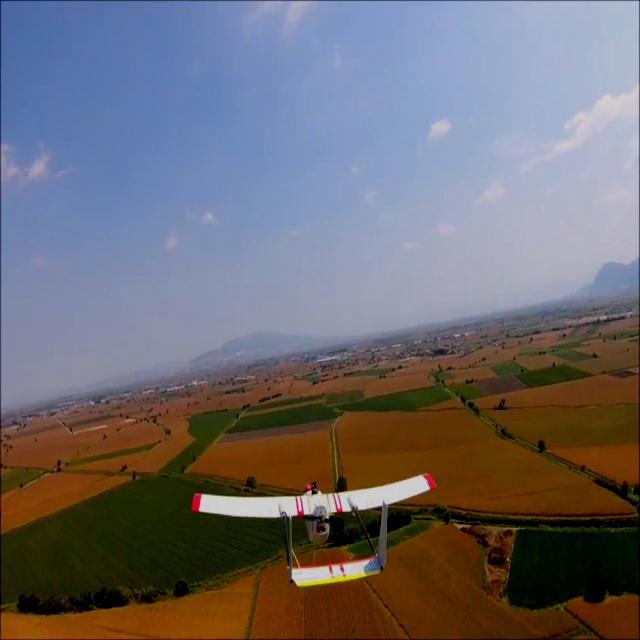iha: (197, 506, 438, 551)
